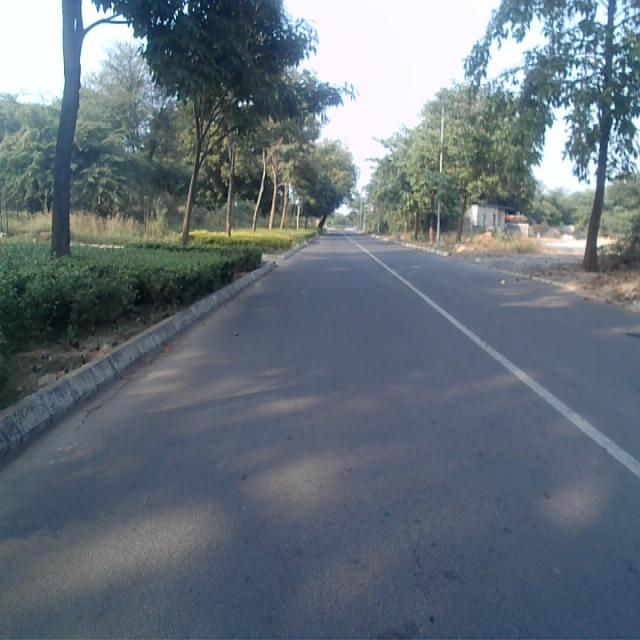lane: (0, 235, 640, 640)
